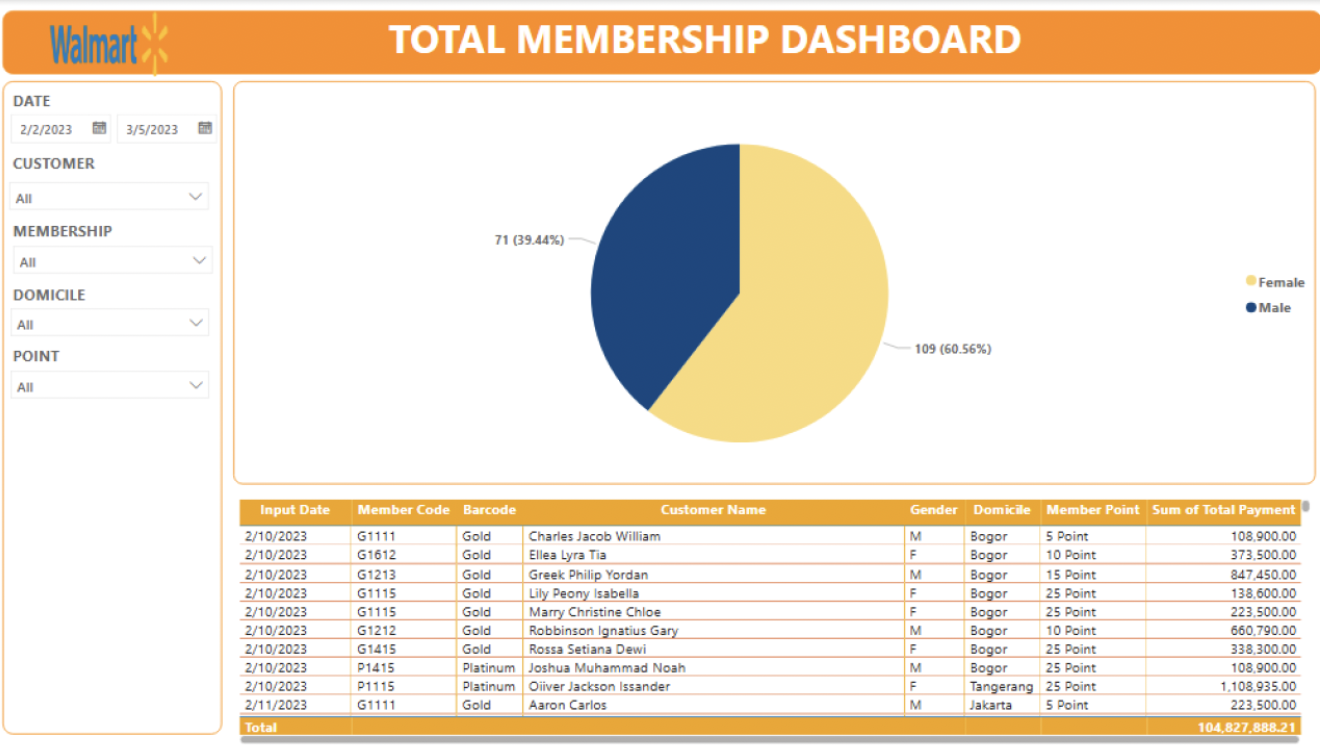

The dashboard page shown, as its layout file describes it:
{"tool":"powerbi","page":{"name":"MEMBERSHIP","canvas":[1280,720],"ordinal":3},"visuals":[{"type":"textbox","box":[7.7,10.7,1269.3,61.2],"z":0},{"type":"image","box":[1.5,6.1,217.4,72],"z":1000},{"type":"tableEx","fields":{"Values":["Persediaan.Input Date","Master (Filled).Member Code","Master (Filled).Barcode","Master (Filled).Customer Name","Master (Filled).Gender","Master (Filled).Domicile","Master (Filled).Member Point","Sum(Master (Filled).Total Payment)"]},"box":[229.7,474.6,1041.1,245],"z":2000},{"type":"textbox","box":[7.8,78.2,211.1,627.3],"z":3000},{"type":"slicer","fields":{"Values":["Master (Filled).Input Date"]},"box":[7.7,104.1,211.3,41.3],"z":4000},{"type":"textbox","box":[16.6,85.4,72.7,29.3],"z":5000},{"type":"textbox","box":[16.8,209.8,151.6,21.4],"z":8000},{"type":"slicer","fields":{"Values":["Master (Filled).Barcode"]},"box":[12.2,231.2,202.1,39.8],"z":9000},{"type":"textbox","box":[16.8,271,93.4,29.1],"z":10000},{"type":"slicer","fields":{"Values":["Master (Filled).Domicile"]},"box":[10.2,290.7,201.4,39.5],"z":11000},{"type":"textbox","box":[16.8,330.7,121,29.1],"z":12000},{"type":"slicer","fields":{"Values":["Master (Filled).Member Point"]},"box":[10.2,350.6,201.4,40.8],"z":13000},{"type":"textbox","box":[16.8,145.5,151.6,21.4],"z":14000},{"type":"slicer","fields":{"Values":["Master (Filled).Customer Name"]},"box":[9.2,170,202.1,39.8],"z":15000},{"type":"pieChart","fields":{"Y":["CountNonNull(Master (Filled).Barcode)"],"Category":["Master (Filled).new gender colomn"]},"box":[229.7,78.1,1041.1,387.4],"z":16000}]}

Visuals, with their boxes in screenshot pixels (x1, y1, x2, y2), scaled from the page's 1280x720 canvas onto the 1320x750 screenshot:
textbox: [8,11,1317,75]
image: [2,6,226,81]
tableEx - Persediaan.Input Date x Master (Filled).Member Code: [237,494,1311,749]
textbox: [8,81,226,735]
slicer - Master (Filled).Input Date: [8,108,226,151]
textbox: [17,89,92,119]
textbox: [17,219,174,241]
slicer - Master (Filled).Barcode: [13,241,221,282]
textbox: [17,282,114,313]
slicer - Master (Filled).Domicile: [11,303,218,344]
textbox: [17,344,142,375]
slicer - Master (Filled).Member Point: [11,365,218,408]
textbox: [17,152,174,174]
slicer - Master (Filled).Customer Name: [9,177,218,219]
pieChart - CountNonNull(Master (Filled).Barcode) x Master (Filled).new gender colomn: [237,81,1311,485]
